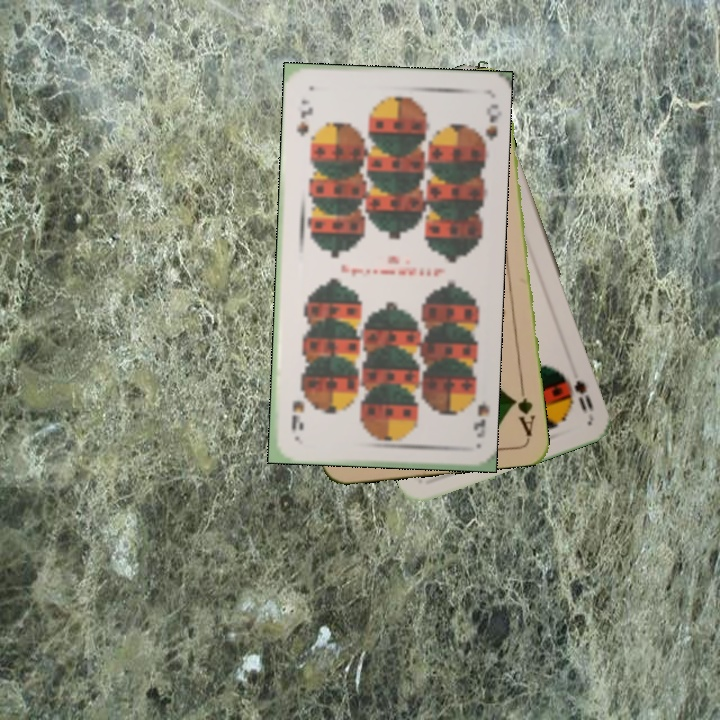GA: (509, 380, 538, 439)
S9: (463, 392, 490, 440), (292, 95, 315, 138)
SO: (570, 376, 596, 417)
